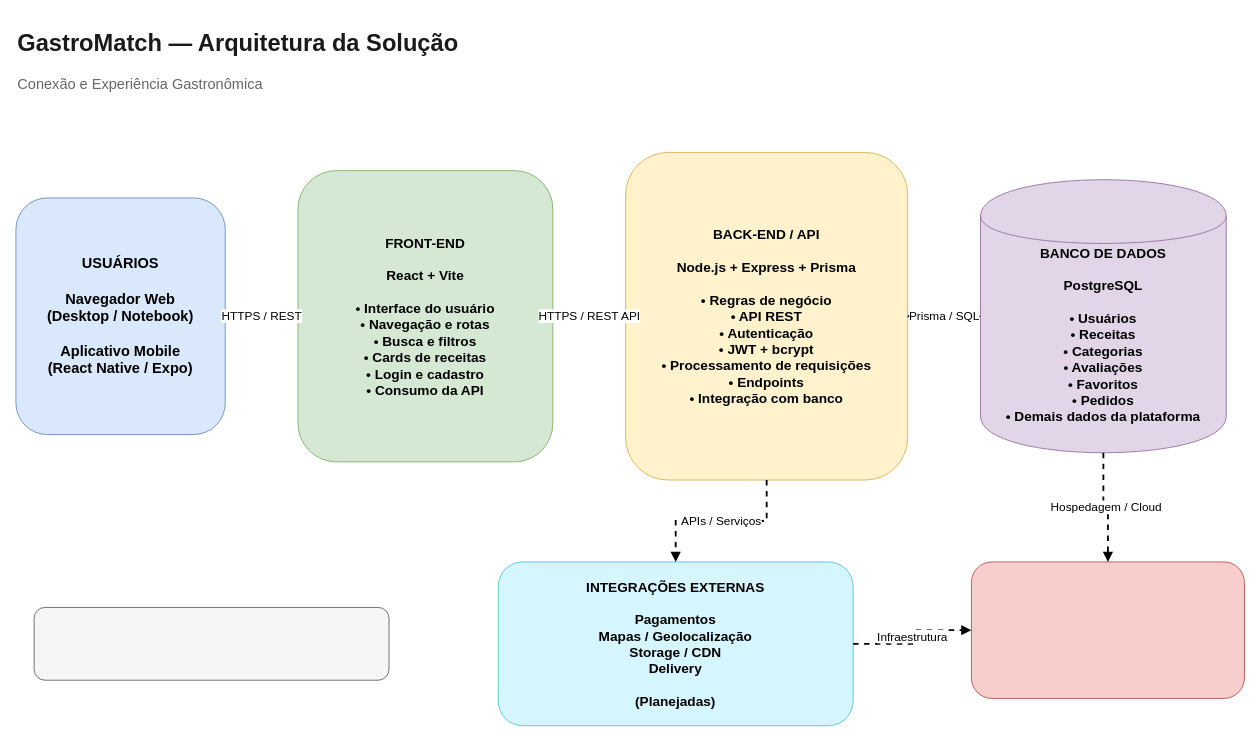
Image size: 1260x742. Some labels were removed from this diagram. The shapes that lost their labels are listed below. From the top down, each one's centre as x and y in pixels, then its label:
At point (211, 643): "SEGURANÇA JWT • bcrypt • Controle de acesso".
At point (1107, 629): "INFRAESTRUTURA EM NUVEM AWS Academy Hospedagem e implantação da aplicação".
